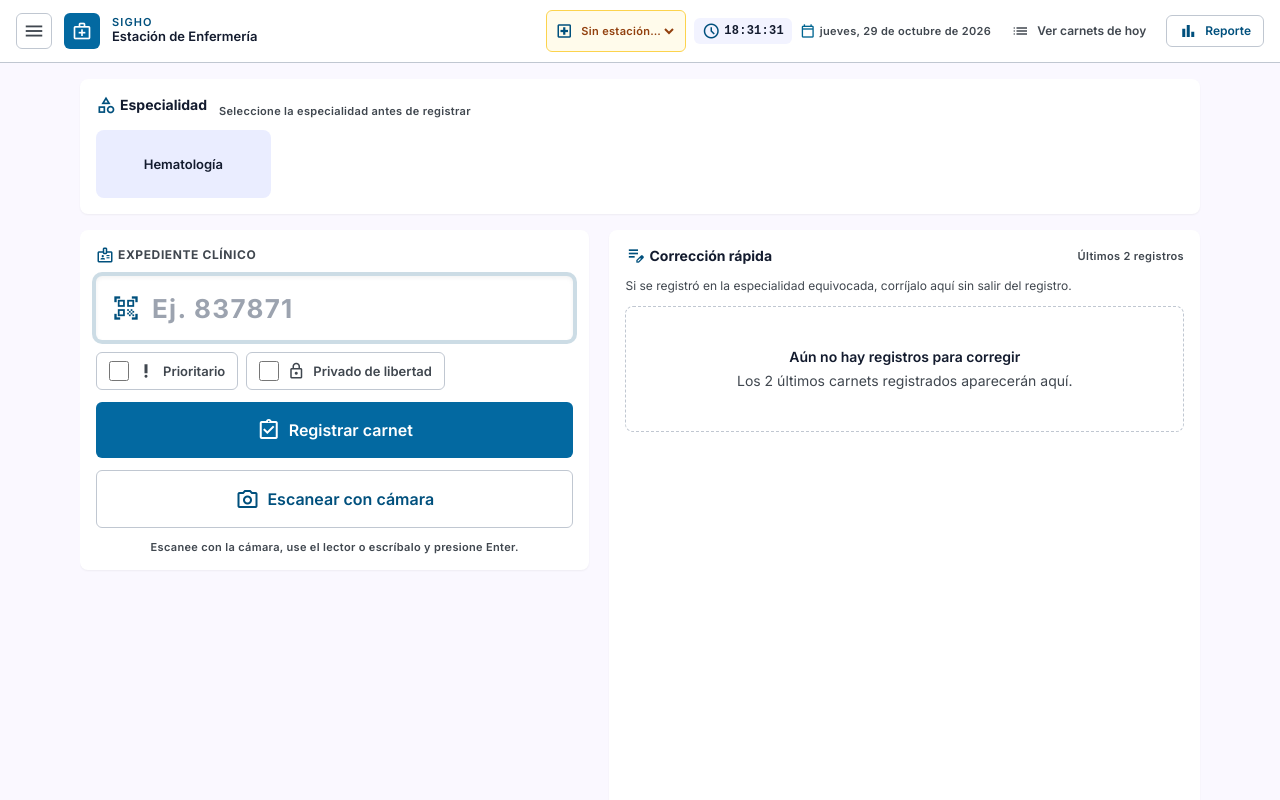
Test case: RegistroCarnetsPage › registra un carnet y muestra correlativo + especialidad
Click the radio button labelled "Hematología": {"x": 183, "y": 164} [96, 130, 271, 198]
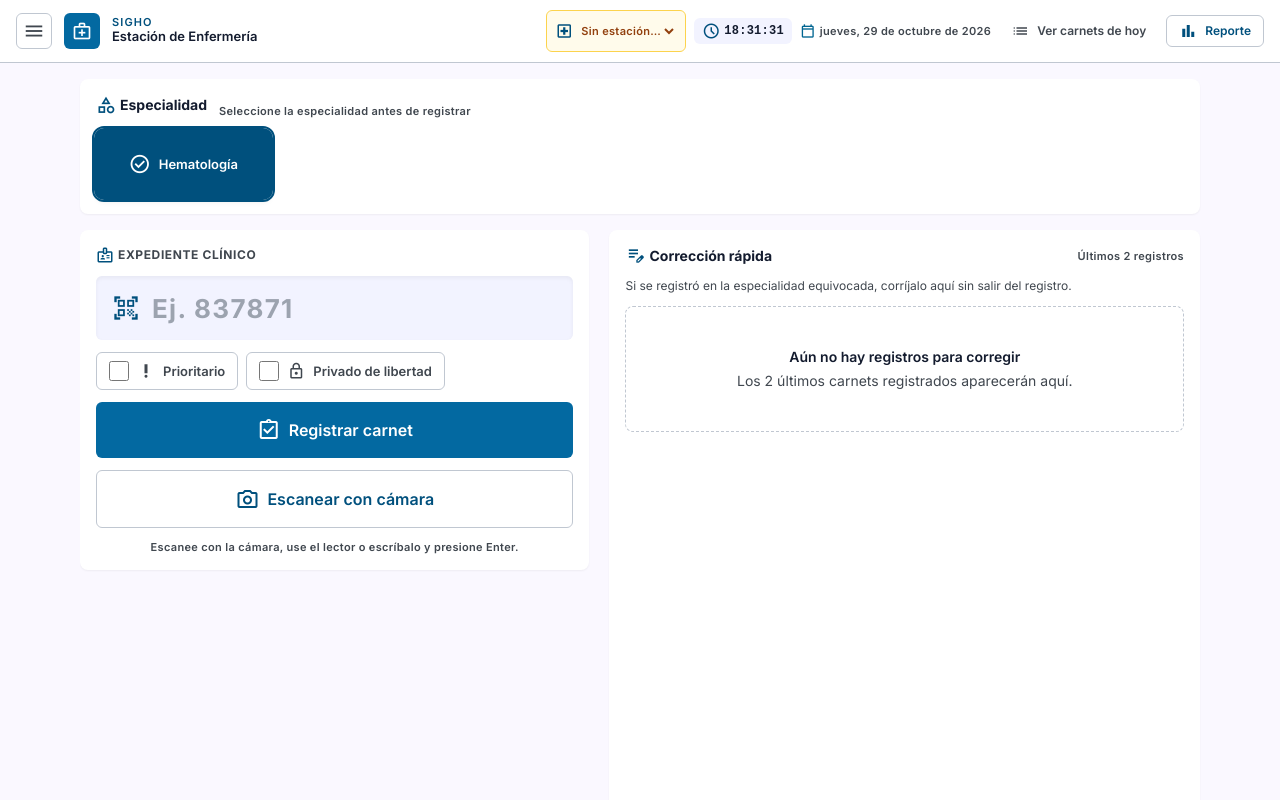
In the field with placeholder "Ej. 837871": {"x": 335, "y": 308} [96, 276, 574, 340], type "837871"
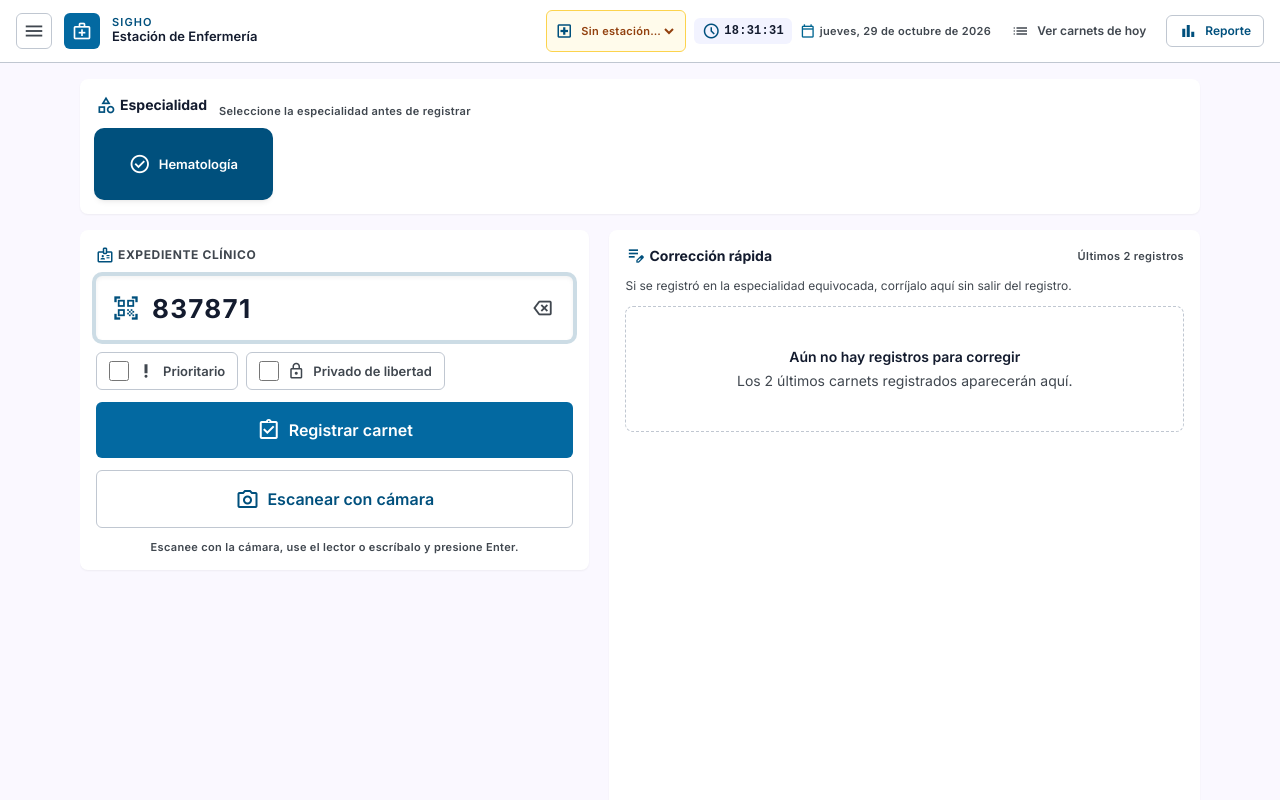
Click the button "Registrar carnet": {"x": 335, "y": 430} [96, 402, 574, 458]
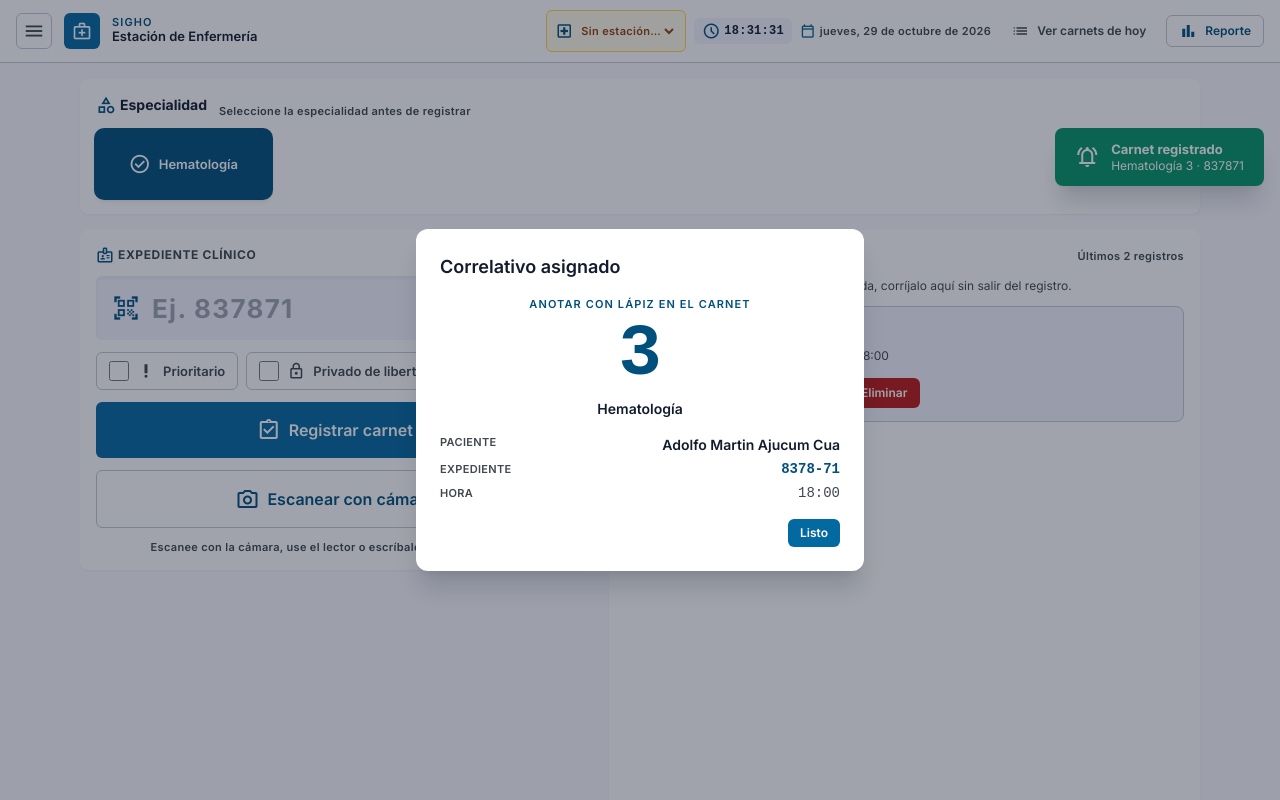
Check: the text with test id "correlativo-asignado" reads "3", box [618, 314, 662, 396]
Check: the text with test id "paciente" reads "Adolfo Martin Ajucum Cua", box [662, 436, 840, 453]
Check: the field with placeholder "Ej. 837871" is empty, box [96, 276, 574, 340]
